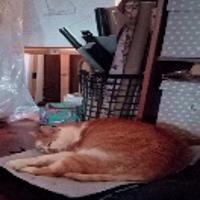asleep: (7, 118, 190, 181)
